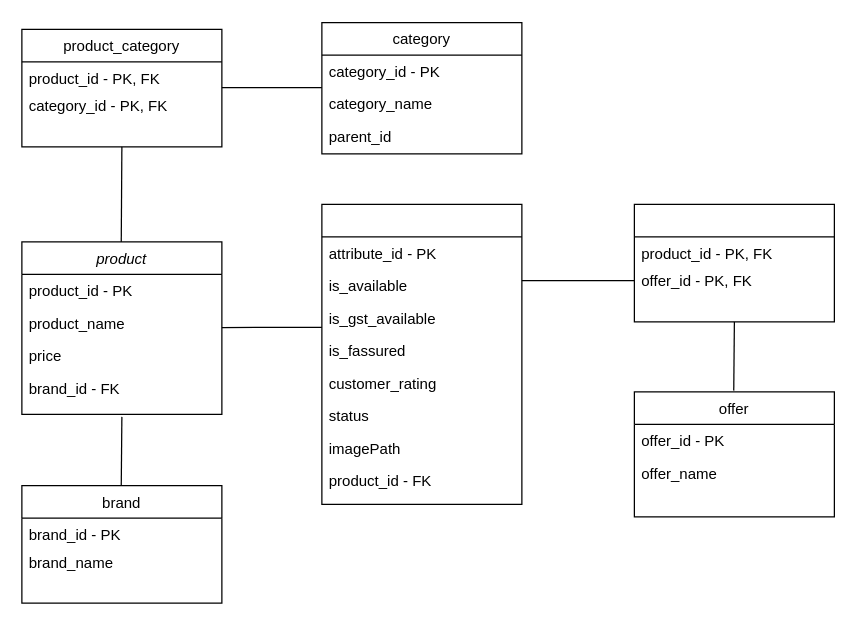
Image size: 856x625. Some labels were removed from this diagram. Each missing label, with the box of its shape:
product_attributes: (321, 203, 522, 504)
product_attributes_offer: (633, 203, 834, 322)
